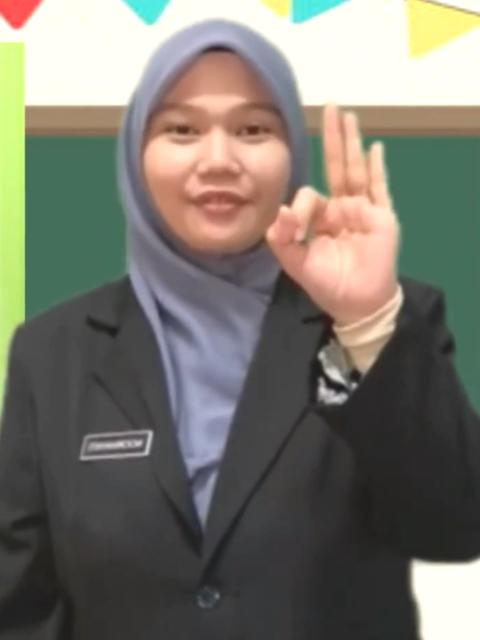F: (270, 99, 400, 313)
